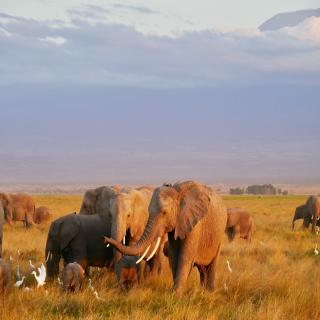Elephant: (101, 178, 230, 297), (94, 183, 164, 282), (42, 208, 114, 296)
